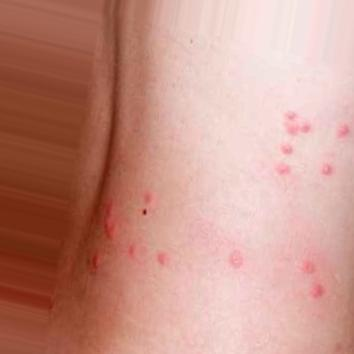Fleas: (284, 112, 310, 135), (272, 159, 294, 182), (296, 254, 317, 278), (102, 205, 117, 238), (82, 251, 103, 274), (226, 249, 246, 271), (307, 279, 328, 299), (316, 161, 335, 180), (154, 251, 173, 267), (336, 122, 349, 139), (143, 192, 155, 208), (123, 244, 135, 257), (281, 144, 291, 155)
